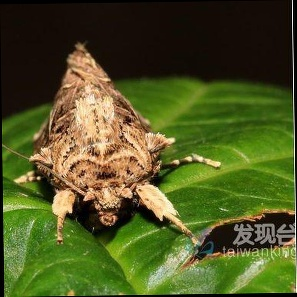Spodoptera litura: (2, 39, 221, 246)
